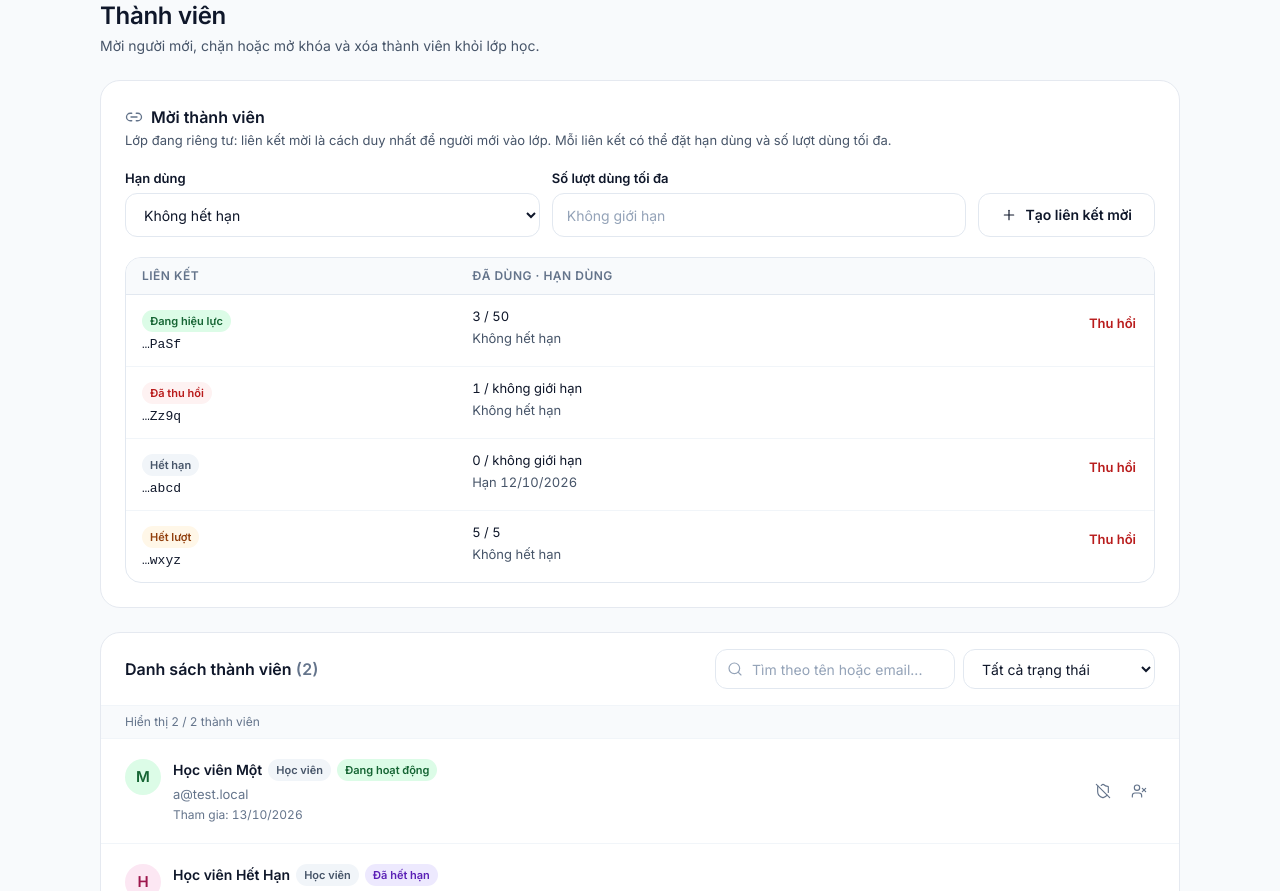
StudioMembers - create an invite › when nothing can copy it says so and leaves the link selected for Ctrl+C
expect the table is shown: met, box [126,258,1154,582]
Click the button "Tạo liên kết mời": (1067, 215) [978,193,1155,237]
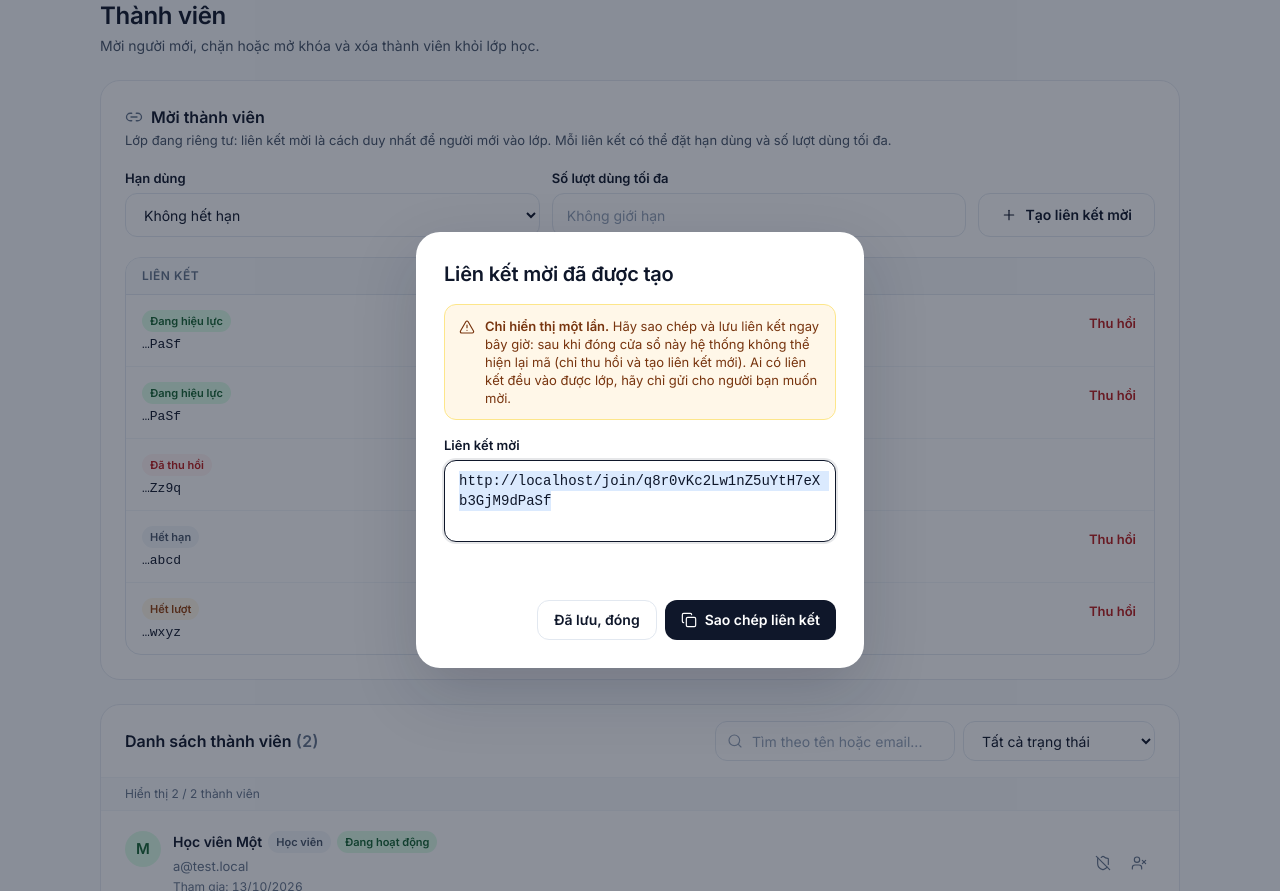
Click the button "Sao chép liên kết": (750, 620) [665,600,836,640]
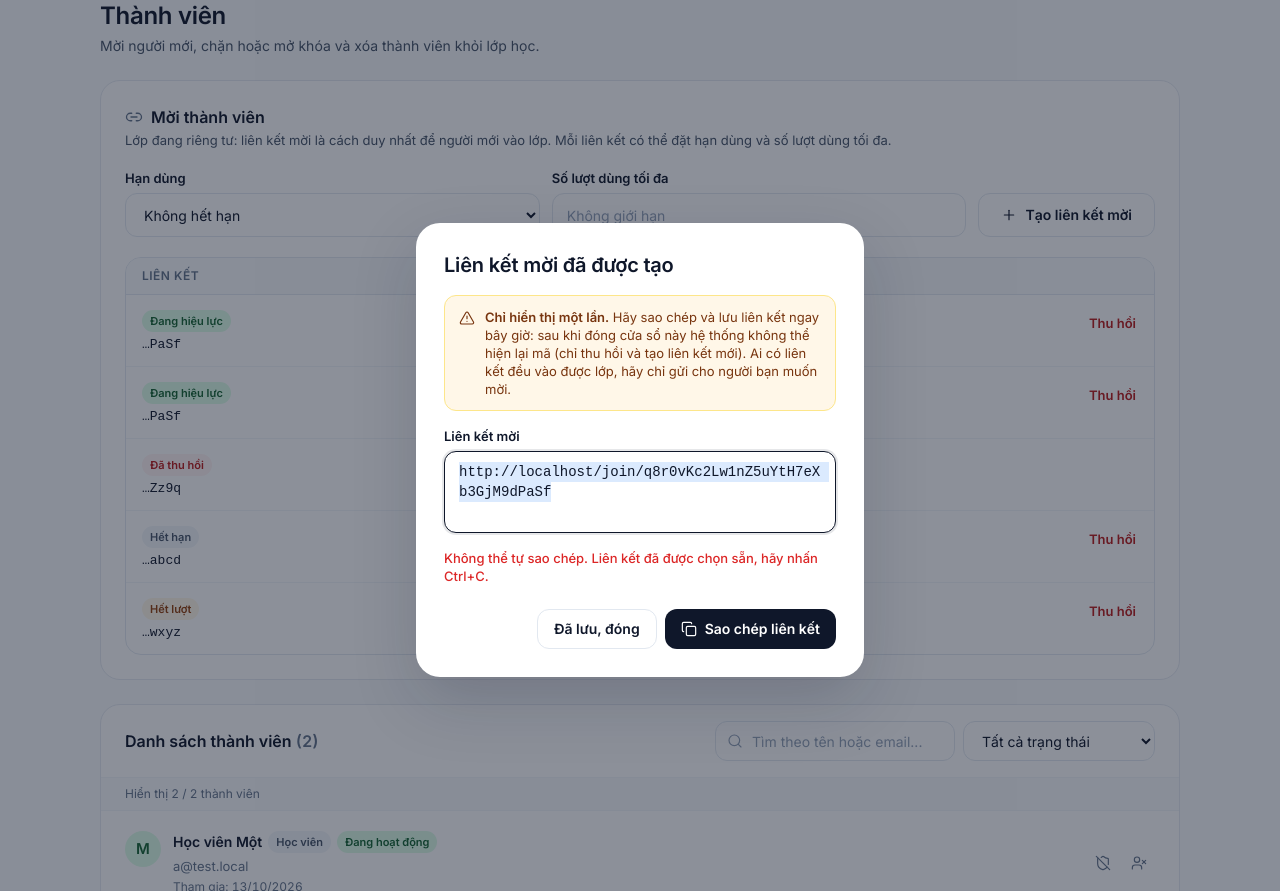
expect the text "Không thể tự sao chép. Liên kết đã được chọn sẵn, hãy nhấn Ctrl+C." is shown: met, box [444,549,836,585]
